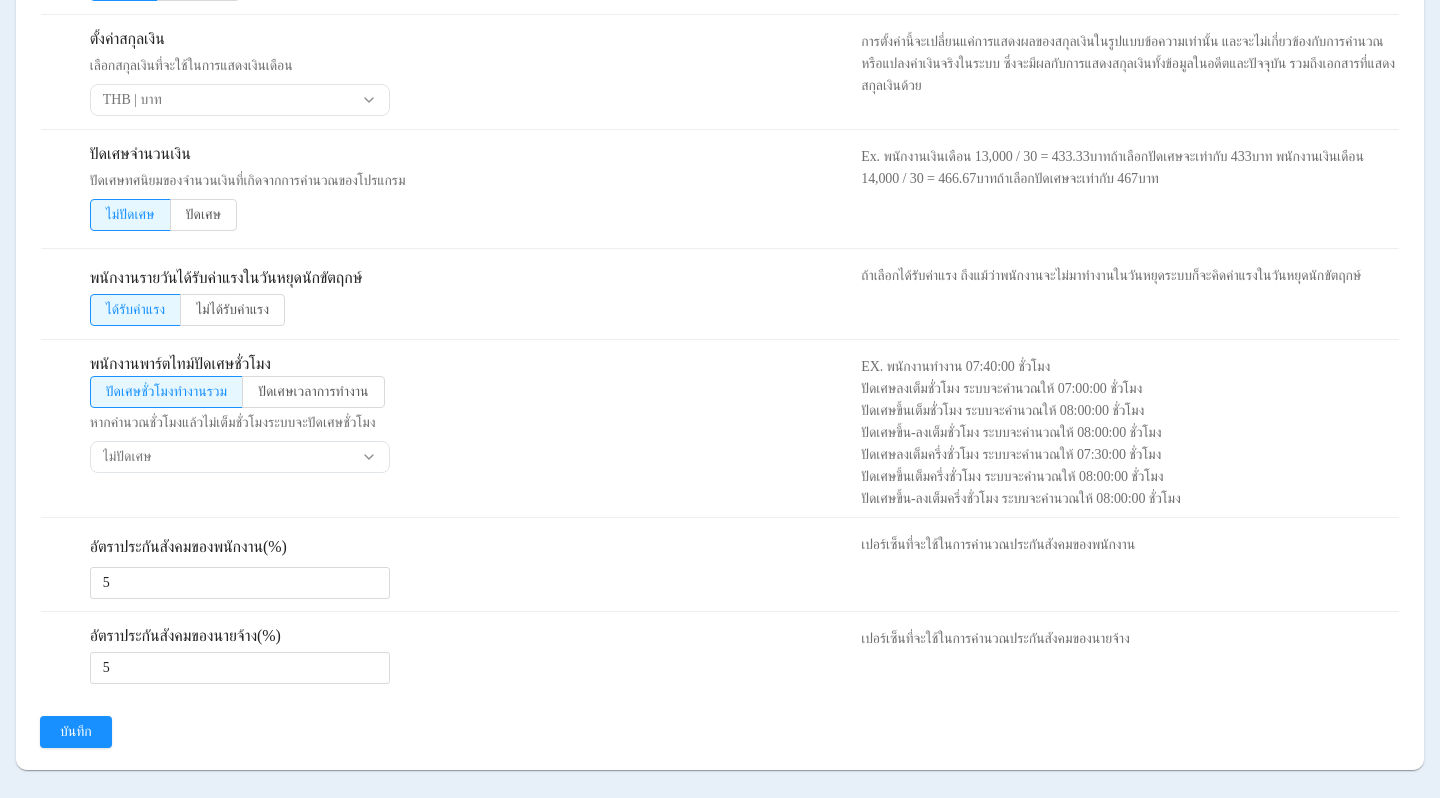
general settings payroll cutoff dropdown › closes the dialog without marking the form saved when cancelled
The width and height of the screenshot is (1440, 798).
(page scrolled)
Click the button "บันทึก".
click(76, 732)  # box [40,716,112,748]
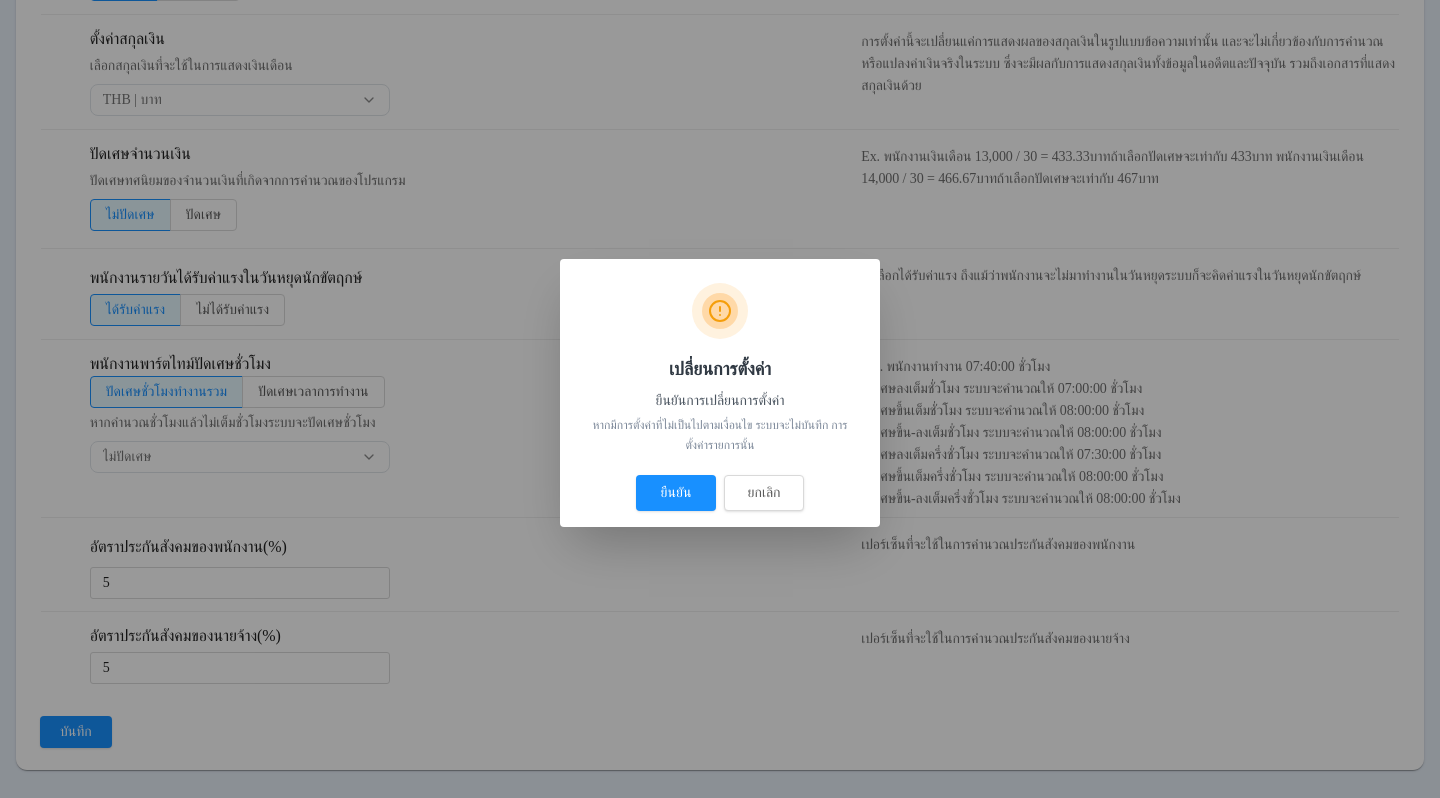
Click the button "ยกเลิก".
click(764, 493)  # box [724,475,804,511]
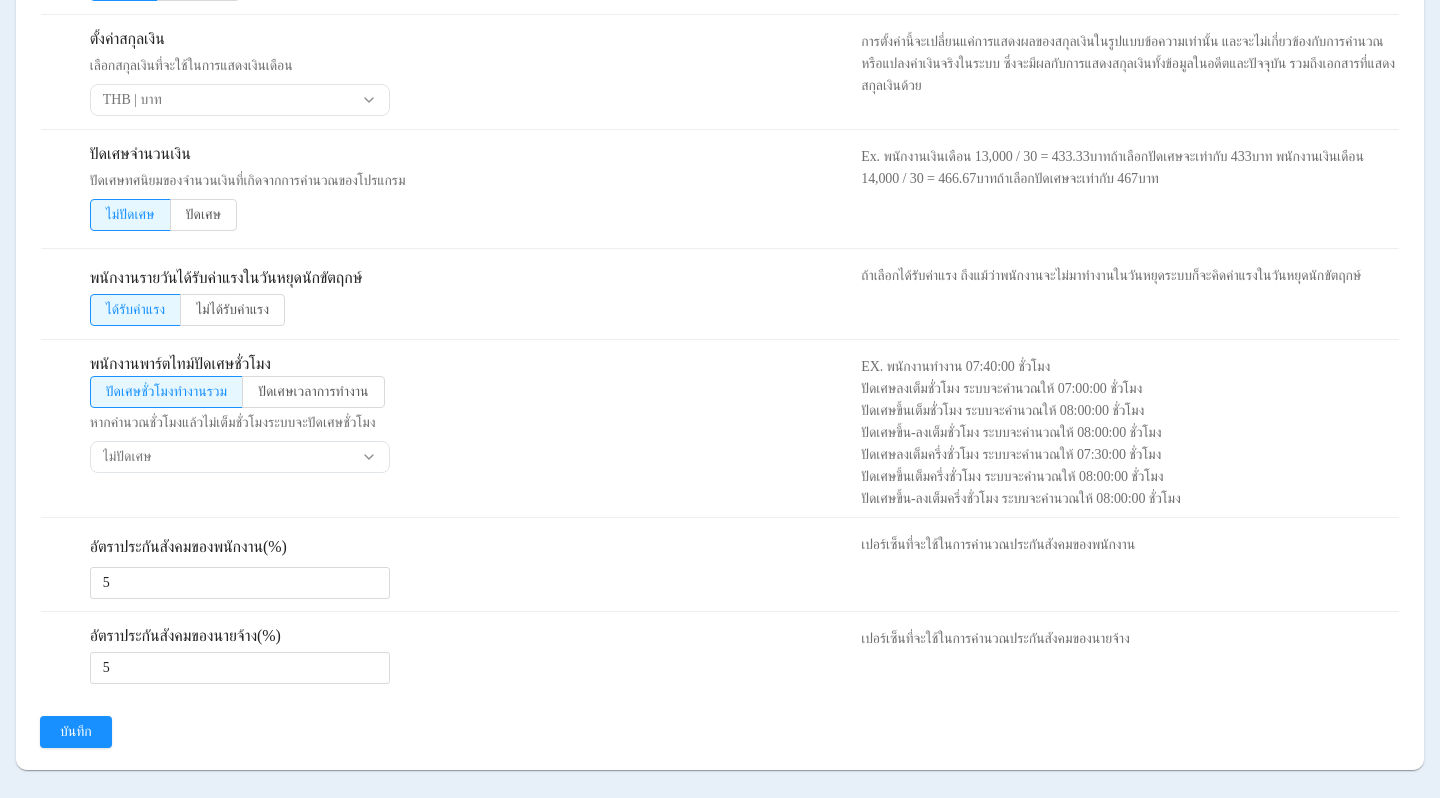
Expected: the button "บันทึก" is shown, [40,716,112,748]
Now the heading "เปลี่ยนการตั้งค่า" is gone
